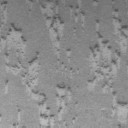oxide scale of temperature system: (0, 2, 70, 128), (87, 8, 128, 124), (36, 0, 71, 66), (69, 4, 85, 22), (4, 80, 9, 94), (72, 116, 78, 124), (18, 109, 20, 122), (93, 0, 98, 4)
